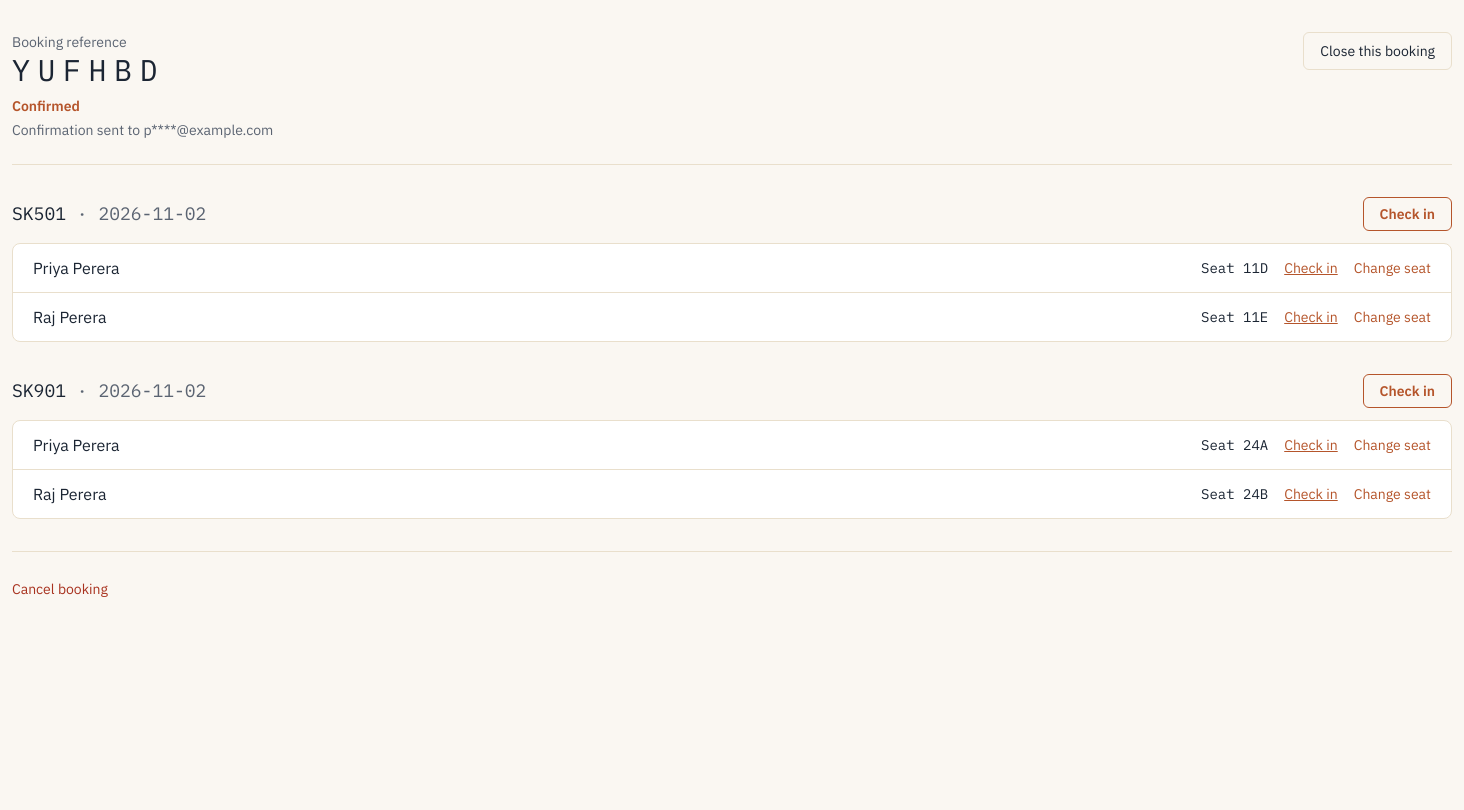
Scenario: ManageView › checking in › checks in one flight and shows each passenger's boarding pass
This screenshot has width=1464, height=810.
Step 1. Click the button with aria-label "Check in for SK501" → (1407, 214), box [1362,197,1452,231]
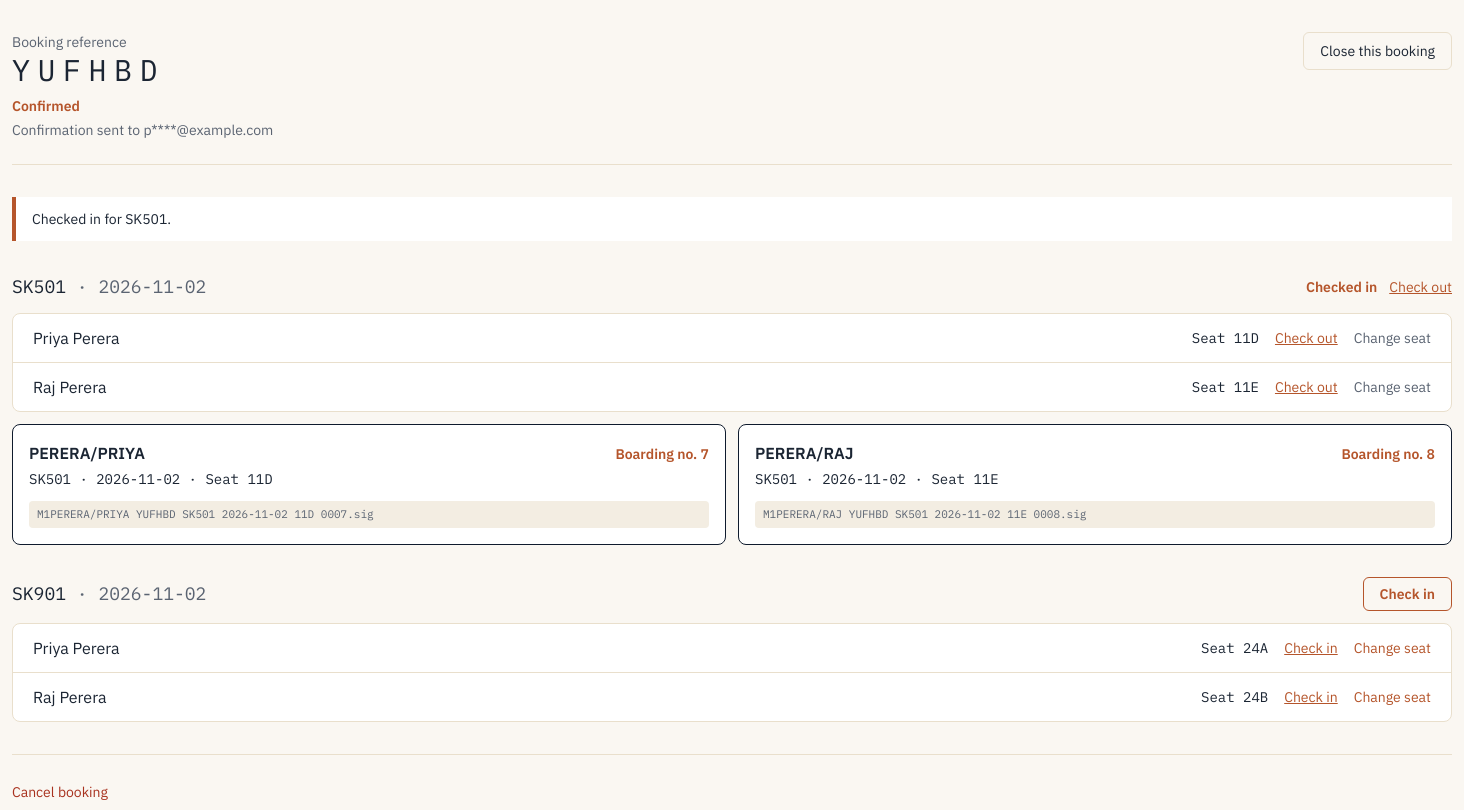
Result: the text "PERERA/PRIYA" is shown at [29,441,145,465]
Result: the text "Boarding no. 7" is shown at [615,444,709,464]
Result: the text "M1PERERA/PRIYA YUFHBD SK501 2026-11-02 11D 0007.sig" is shown at [29,501,709,528]
